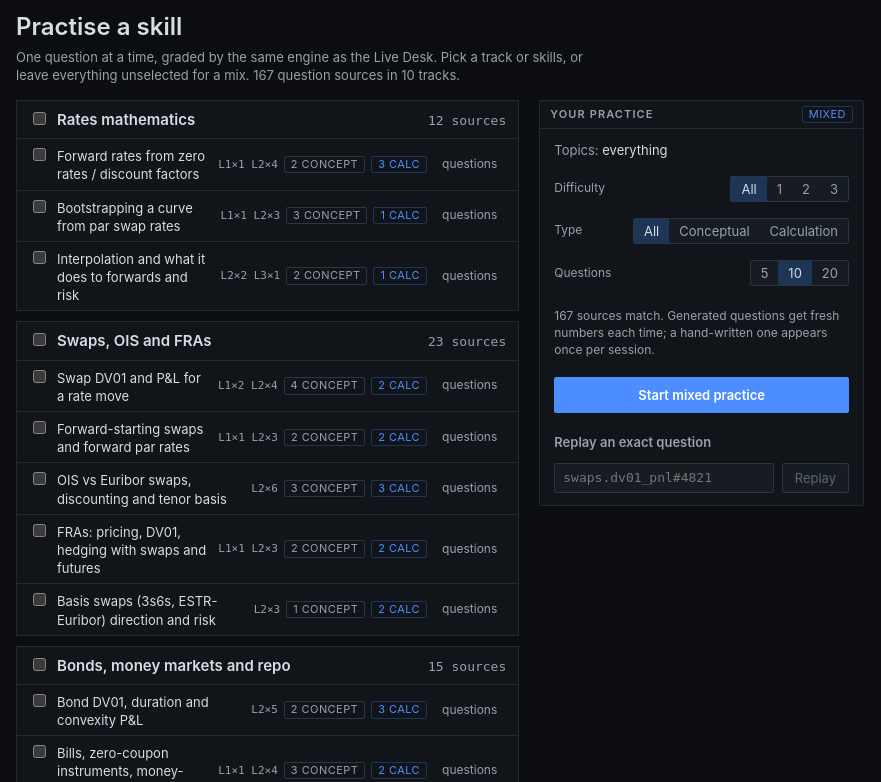
Test: the question screen › shows the stem and the first part only, with no answer, expected value or later prompt
Step 1. Type "basis.irs_vs_ois#1" into the field named "question id" → [664, 478], box [554,463,774,493]
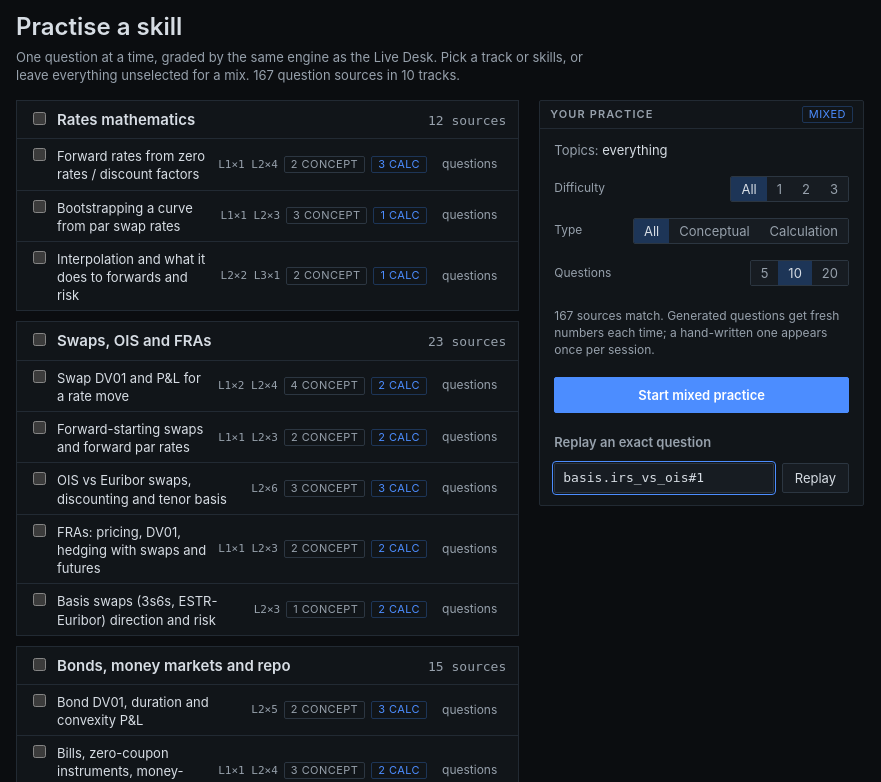
Step 2. Click the button "Replay" → [815, 478], box [782,463,849,493]
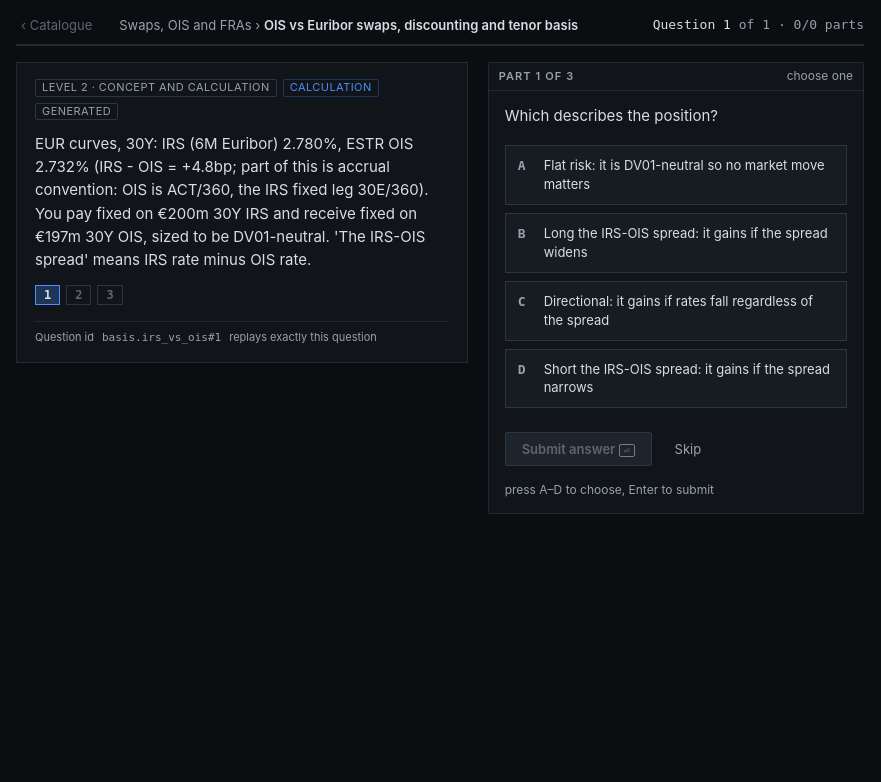
Check: the text "EUR curves, 30Y" is shown, box [35,134,428,269]
Check: the text "Which describes the position?" is shown, box [505,106,718,125]
Check: the number of radio buttons is 4, box [505,146,847,205]; [505,213,847,273]; [505,281,847,341]; [505,348,847,408]
